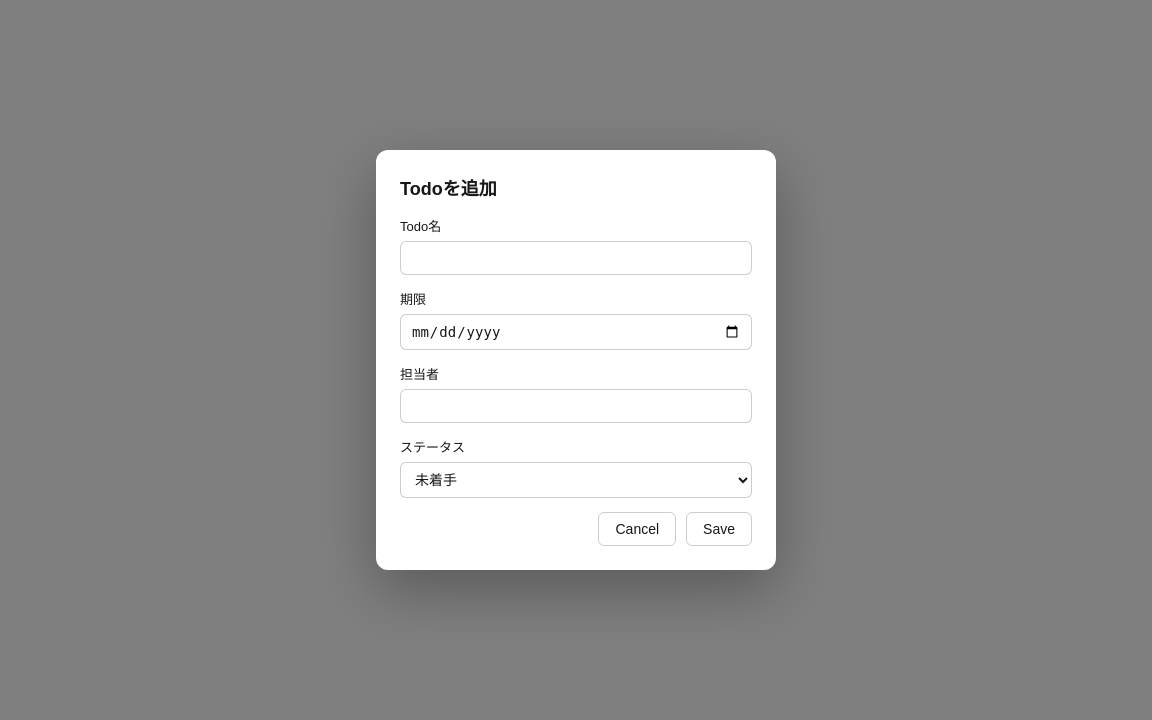
Test: TodoNewModal › shows the fallback message when fetch rejects with a non-Error value
Type "新規タスク" into the field labelled "Todo名" at (576, 258), box [400, 241, 752, 275]
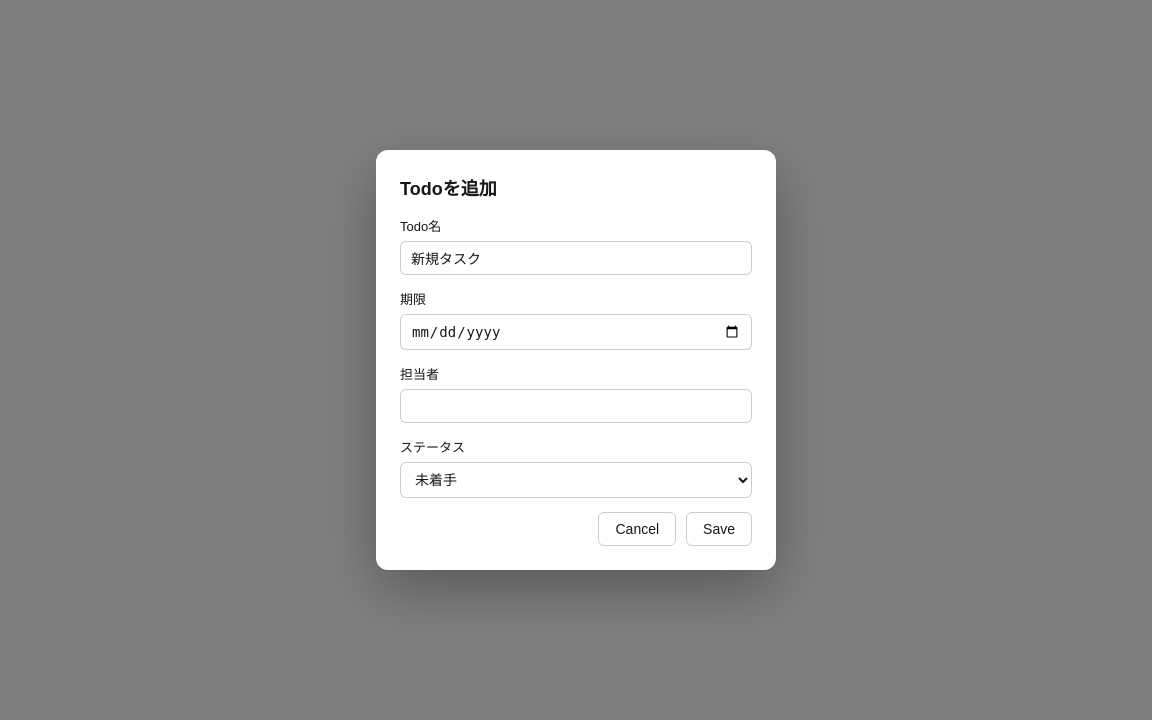
Type "2026-12-01" into the date field labelled "期限" at (576, 332), box [400, 314, 752, 350]
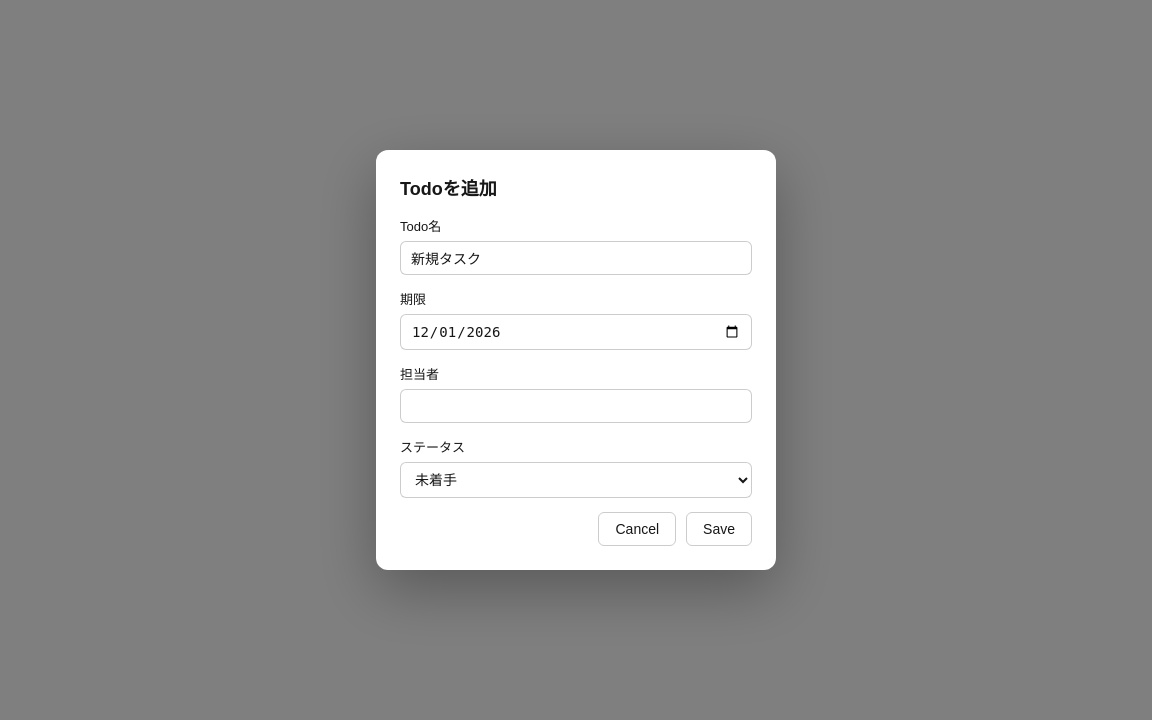
Type "担当太郎" into the field labelled "担当者" at (576, 406), box [400, 389, 752, 423]
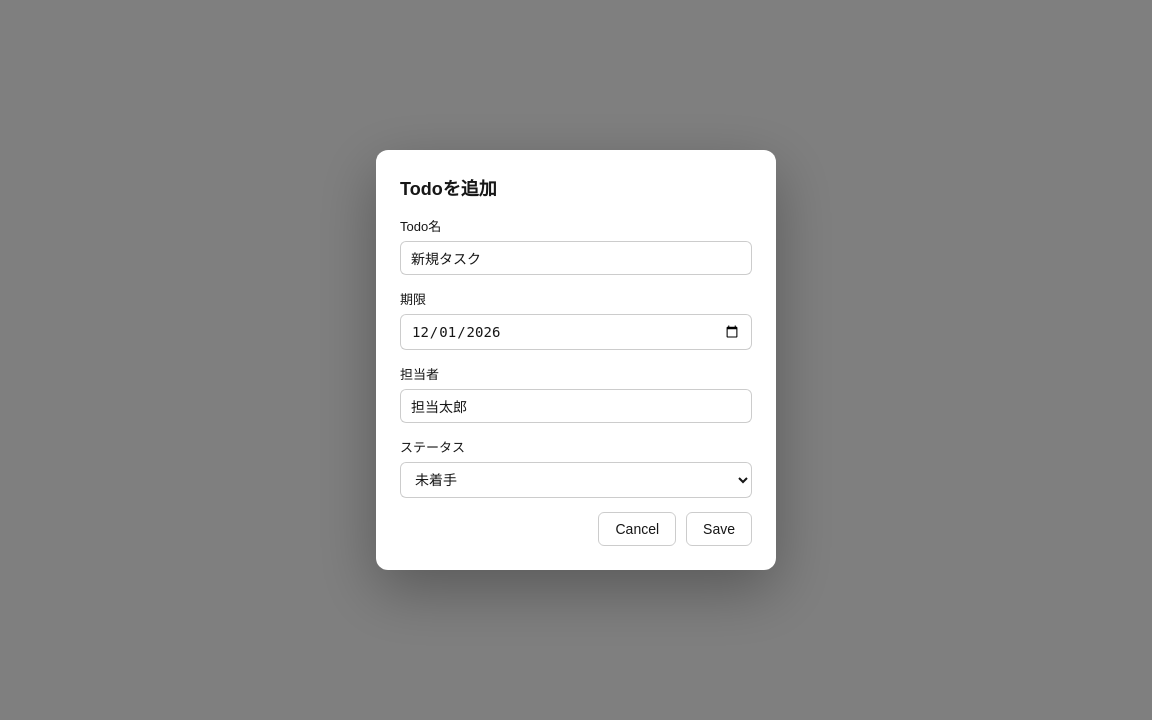
Click the button "Save" at (719, 529), box [686, 512, 752, 546]
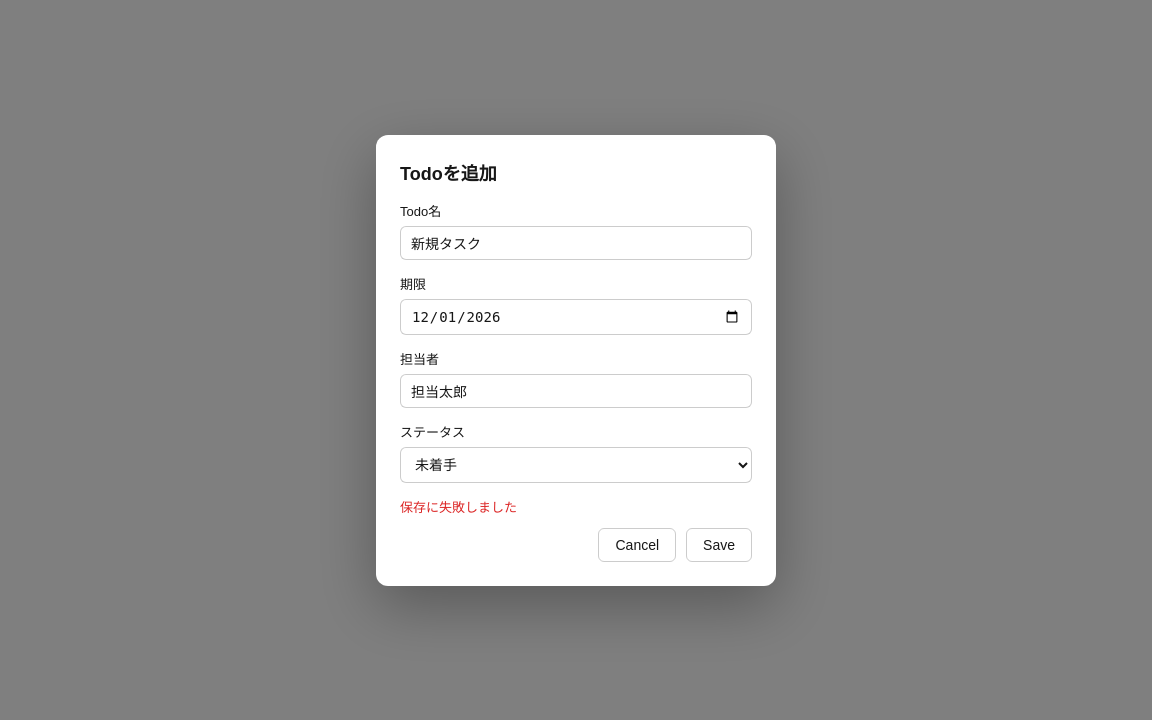
Now the text "保存に失敗しました" is shown, box [400, 500, 517, 514]
